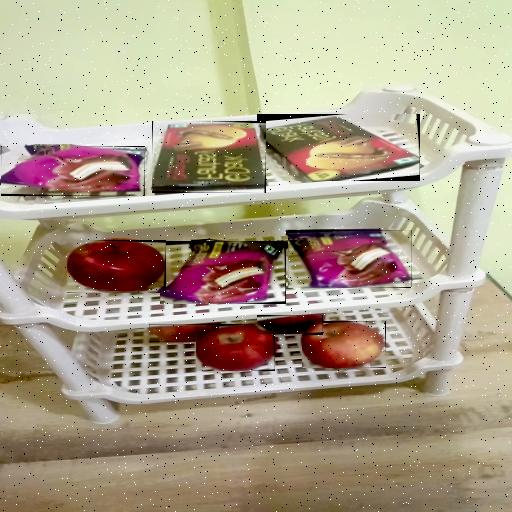Apple: (67, 240, 166, 293), (302, 321, 386, 368), (196, 324, 275, 371), (149, 324, 219, 342), (257, 315, 323, 334)
Choco Fills: (257, 114, 420, 181), (152, 121, 266, 193)
Choco Pie: (160, 241, 286, 304), (1, 146, 145, 196), (288, 230, 412, 288)
